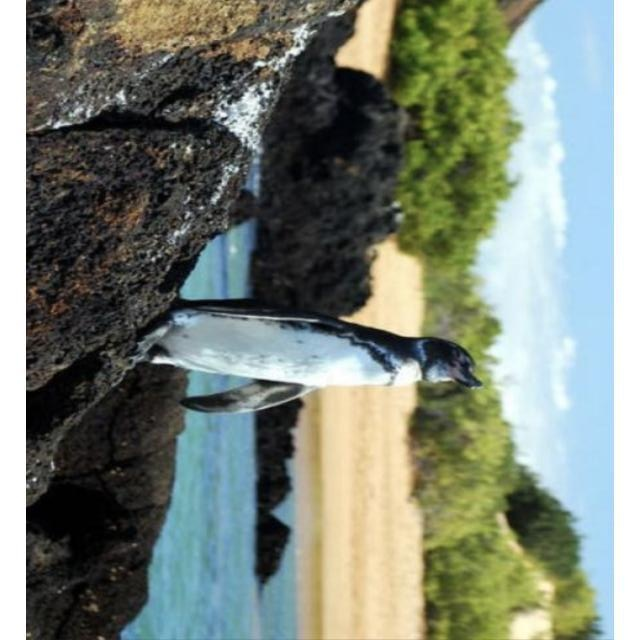penguin: (128, 298, 484, 417)
